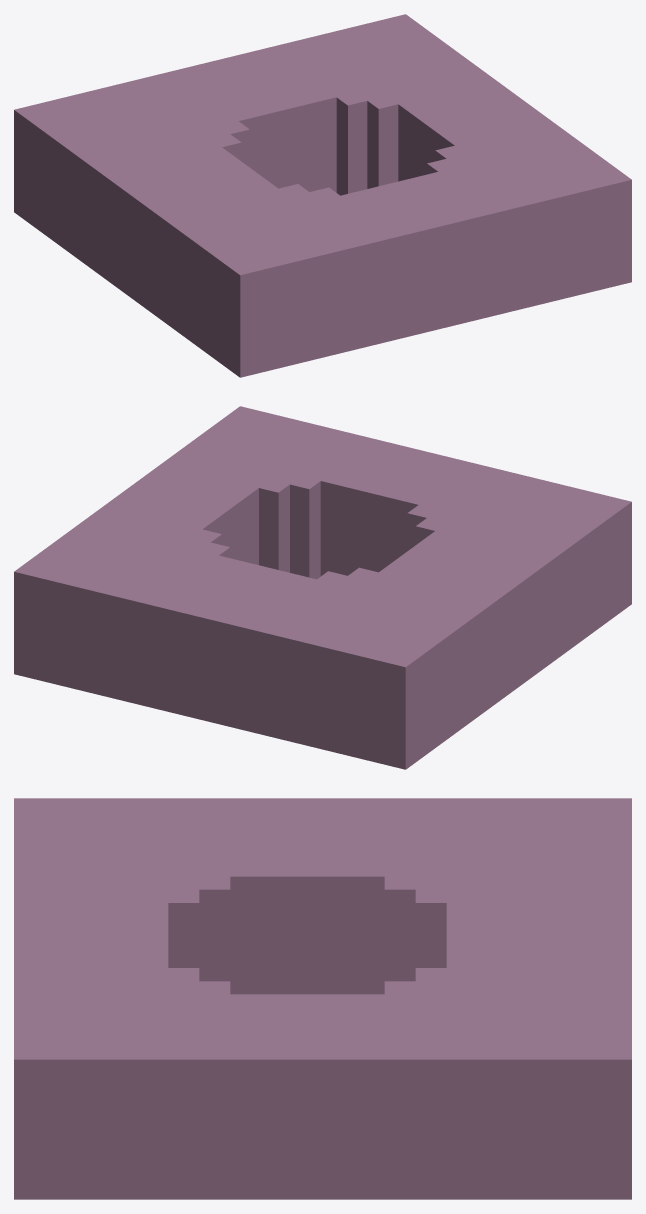
File: alien-biosphere-sinkhole-tile-5a696c66__22767.glb
3 renders of one model, top to bottom at view 1: azimuth 30°, elevation 25°; view 2: azimuth 150°, elevation 25°; view 3: azimuth 270°, elevation 25°, orthographic. The views are drawn at different scales.
Visible parts, largest first — view 1: sinkhole-tile; view 2: sinkhole-tile; view 3: sinkhole-tile.
Boxes of the visible parts, box(x1,y1,x2,y2) form: sinkhole-tile: box(14, 14, 631, 377); sinkhole-tile: box(14, 406, 631, 769); sinkhole-tile: box(14, 798, 631, 1199).
Size of the model in its own units: 4 by 1 by 4.
